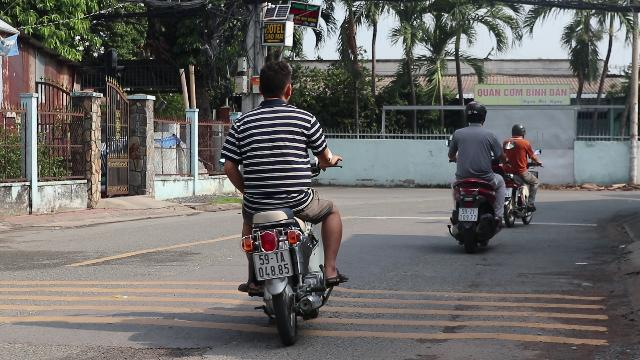helmet: (462, 102, 486, 126)
licenseplate: (252, 248, 294, 280), (458, 207, 478, 221)
motorcyclist: (222, 58, 352, 342), (444, 101, 506, 253)
nohelmet: (255, 60, 295, 104)
